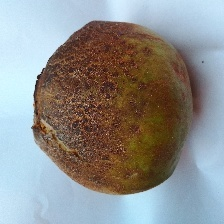guava: (18, 39, 214, 213)
